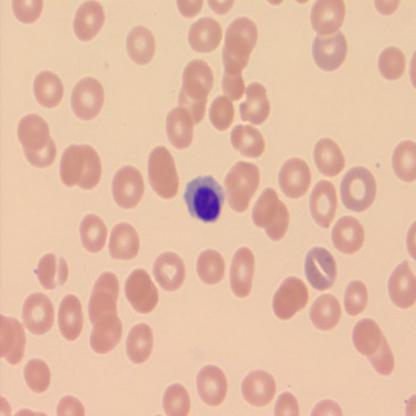NRC: (183, 173, 228, 223)
